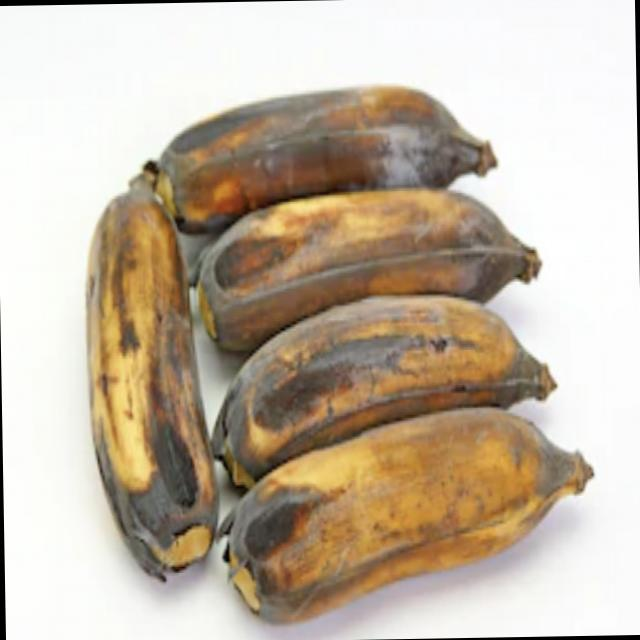rotten-banana: (237, 416, 570, 618), (226, 298, 541, 460), (93, 165, 212, 574), (155, 76, 500, 214), (206, 176, 523, 318)
